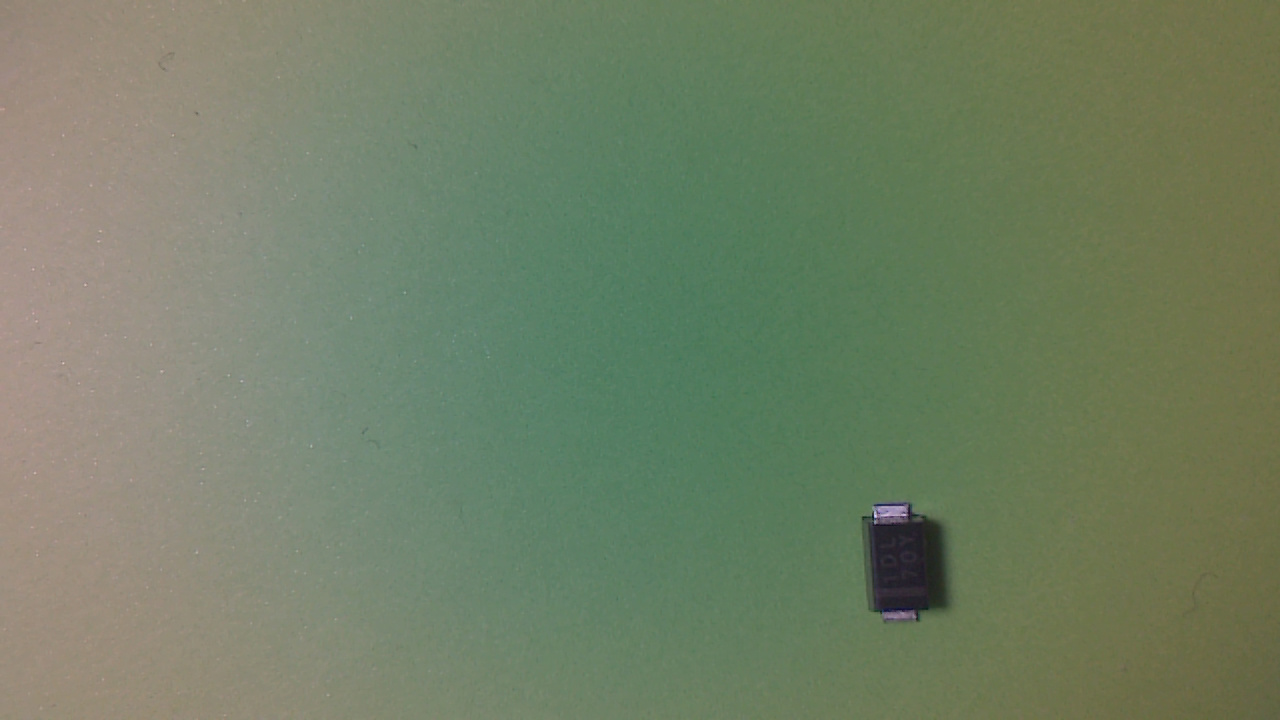Diode: (863, 503, 934, 626)
